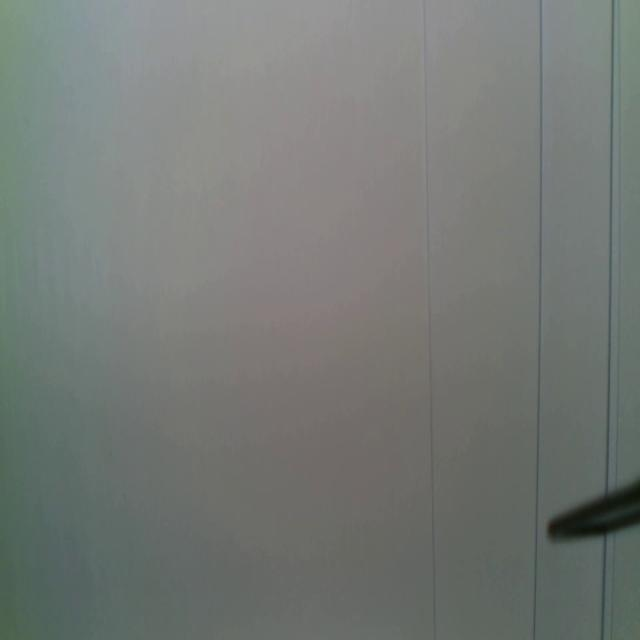crease: (422, 3, 438, 638), (531, 0, 543, 639), (604, 0, 615, 488), (614, 4, 622, 482), (609, 532, 617, 640), (600, 539, 608, 639)
